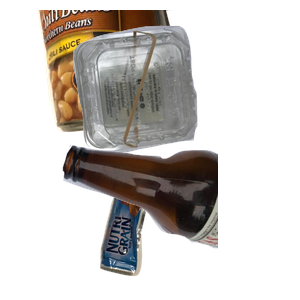glass: (60, 142, 300, 300)
metal: (34, 10, 213, 135)
plastic: (71, 23, 300, 169)
trash: (97, 152, 248, 300)
